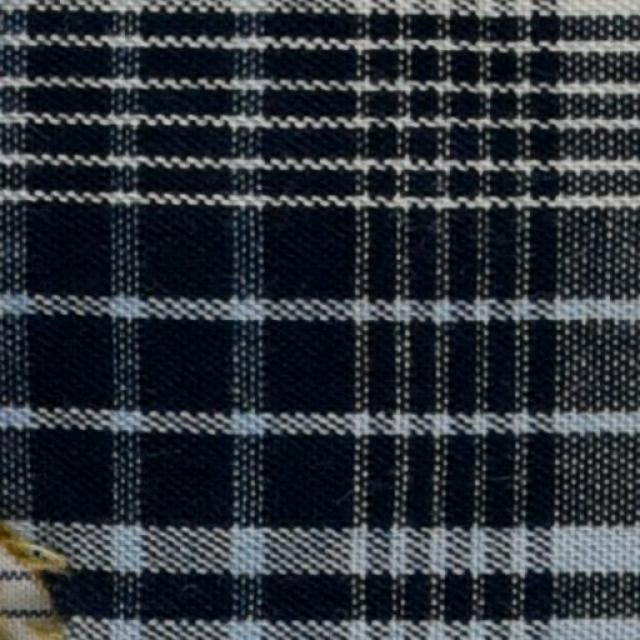Hole: (0, 559, 47, 640)
Stain: (0, 525, 74, 638)
